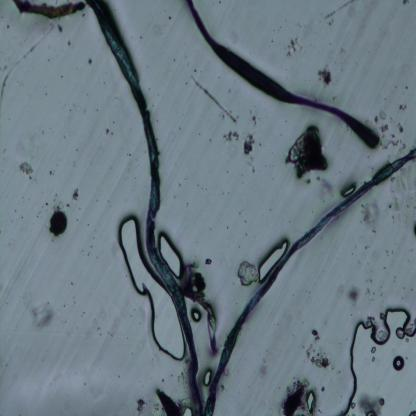Air bubble: (118, 215, 189, 361), (340, 305, 416, 414), (256, 238, 287, 282), (157, 229, 182, 279), (304, 388, 317, 412), (392, 355, 406, 373), (191, 305, 203, 322), (203, 369, 214, 385), (183, 406, 193, 416)
Background material: (286, 124, 330, 178), (364, 95, 408, 144), (268, 30, 309, 63), (277, 378, 308, 416), (305, 330, 332, 370), (32, 292, 60, 330), (155, 385, 187, 416), (358, 193, 380, 236), (322, 2, 352, 24), (237, 260, 260, 288), (344, 278, 364, 306), (18, 156, 38, 181), (317, 64, 335, 87), (253, 358, 270, 381), (243, 131, 256, 155), (135, 396, 150, 414), (54, 19, 67, 36), (69, 187, 81, 202), (401, 1, 411, 7), (320, 385, 326, 393), (87, 57, 92, 66)
Cellulose filter fibre: (182, 265, 222, 353), (12, 4, 86, 19)
Cotton: (206, 154, 416, 416), (86, 2, 205, 415), (188, 1, 380, 149)
Diatom: (46, 207, 70, 236)
